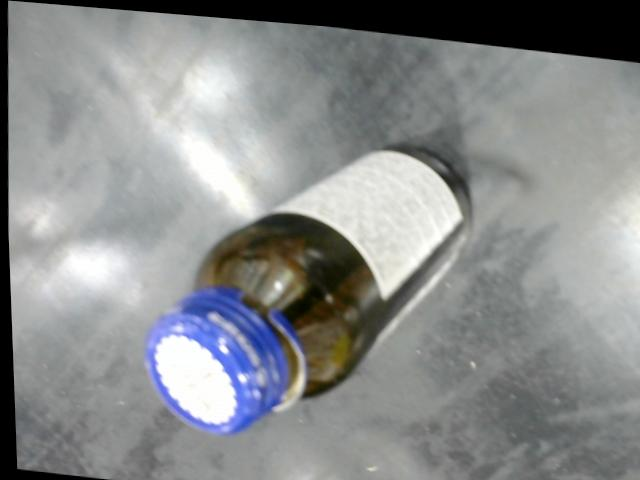glass: (135, 128, 482, 445)
